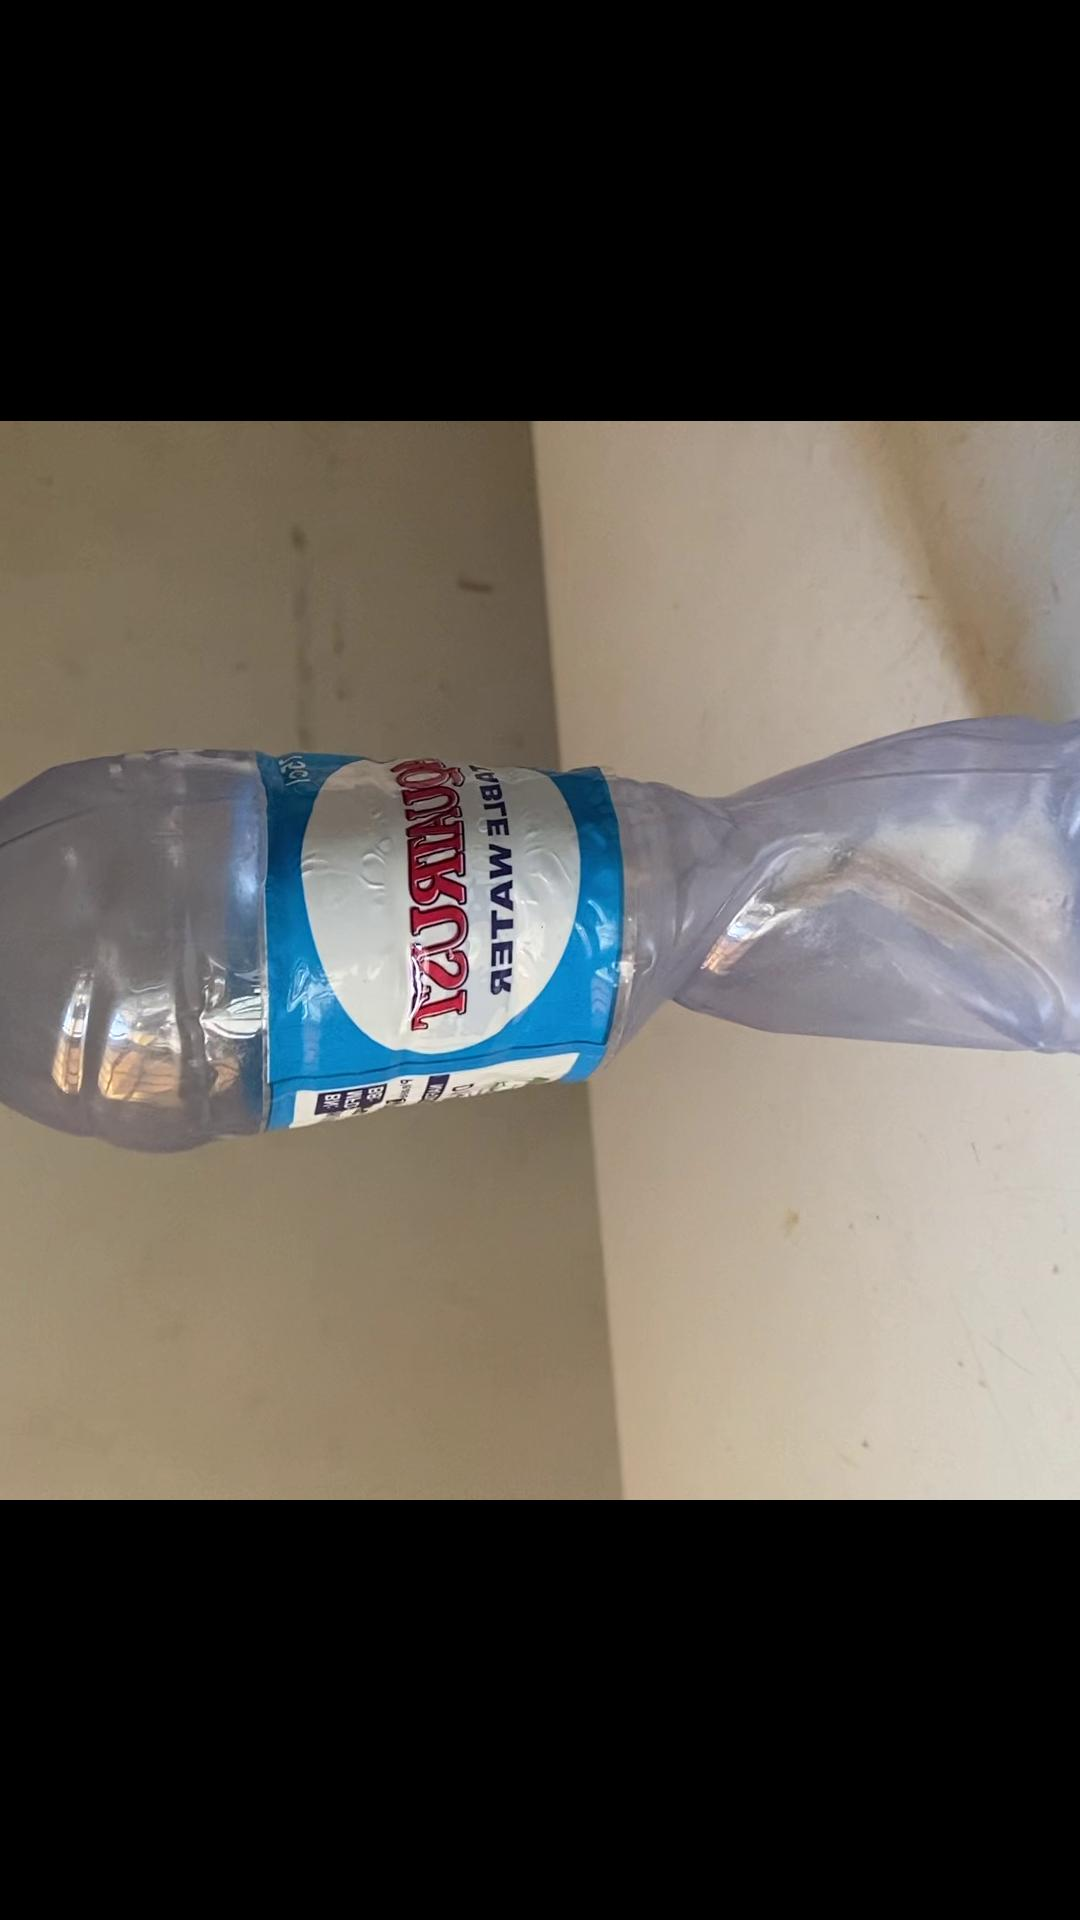crumbled: (0, 698, 1080, 1164)
label: (261, 744, 621, 1108)
